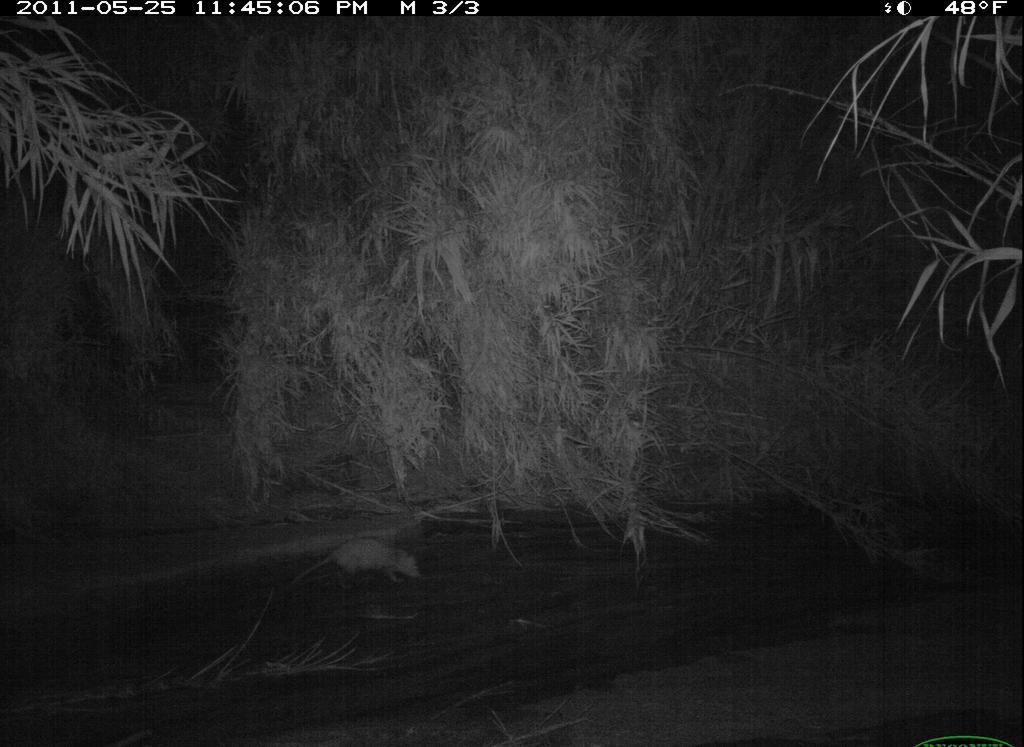opossum: (281, 532, 425, 607)
